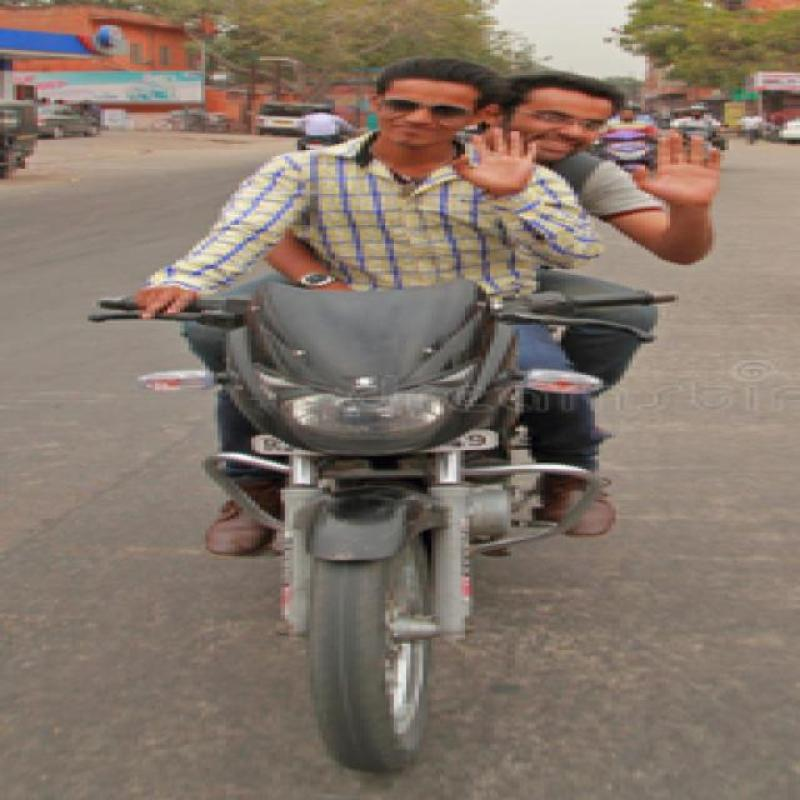nohelmet: (362, 45, 503, 154), (508, 60, 630, 172)
